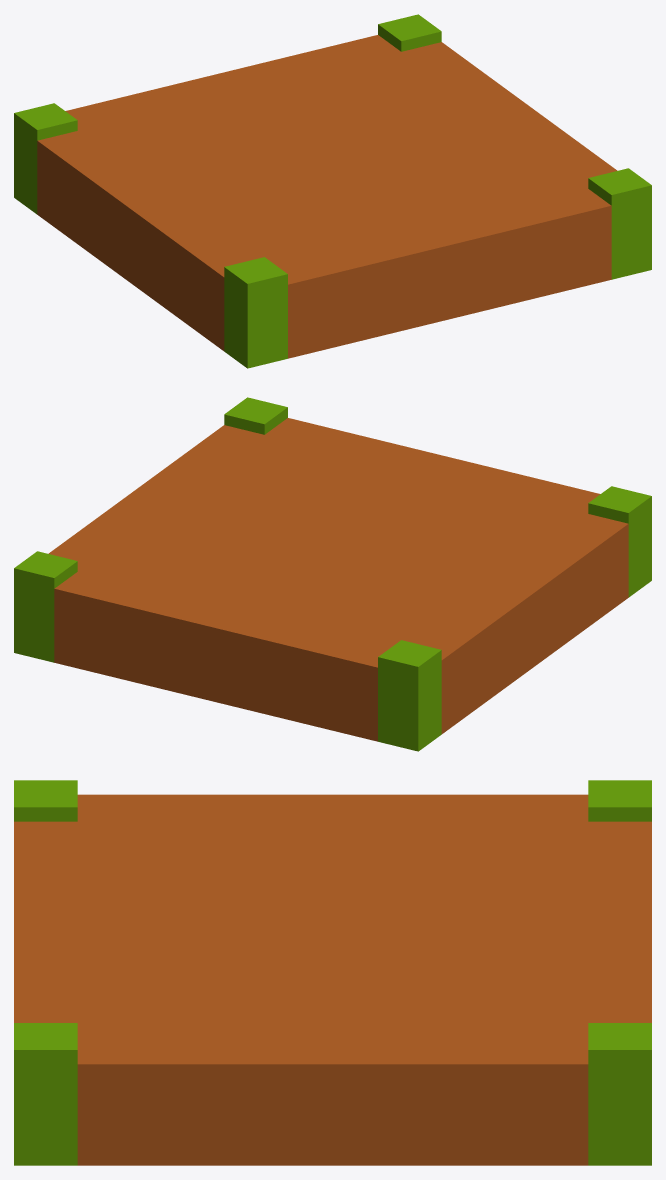
File: TileGround_11.fbx
The picture shows the model from 3 angles, top to bottom: view 1: azimuth 30°, elevation 25°; view 2: azimuth 150°, elevation 25°; view 3: azimuth 270°, elevation 25°; orthographic projection. The views are drawn at different scales.
Visible parts, largest first — view 1: TileGround_11; view 2: TileGround_11; view 3: TileGround_11.
Boxes of the visible parts, box(x1,y1,x2,y2) form: TileGround_11: box(14, 14, 651, 368); TileGround_11: box(14, 397, 651, 751); TileGround_11: box(14, 780, 651, 1165).
Size of the model in its own units: 500 by 100 by 500.
